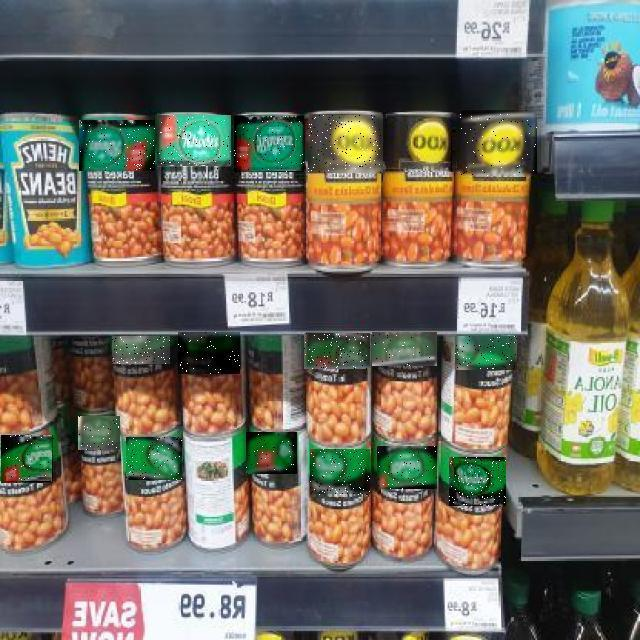Beans: (460, 110, 537, 176), (308, 115, 383, 173), (157, 116, 231, 170), (388, 114, 456, 172), (234, 116, 304, 172), (79, 120, 155, 171), (449, 457, 506, 506), (310, 450, 370, 496), (178, 332, 240, 374), (2, 435, 56, 483), (377, 446, 437, 489), (126, 437, 182, 480), (304, 333, 370, 369), (372, 332, 437, 366), (246, 432, 297, 474), (455, 336, 517, 370), (112, 336, 170, 364), (78, 416, 120, 450)
